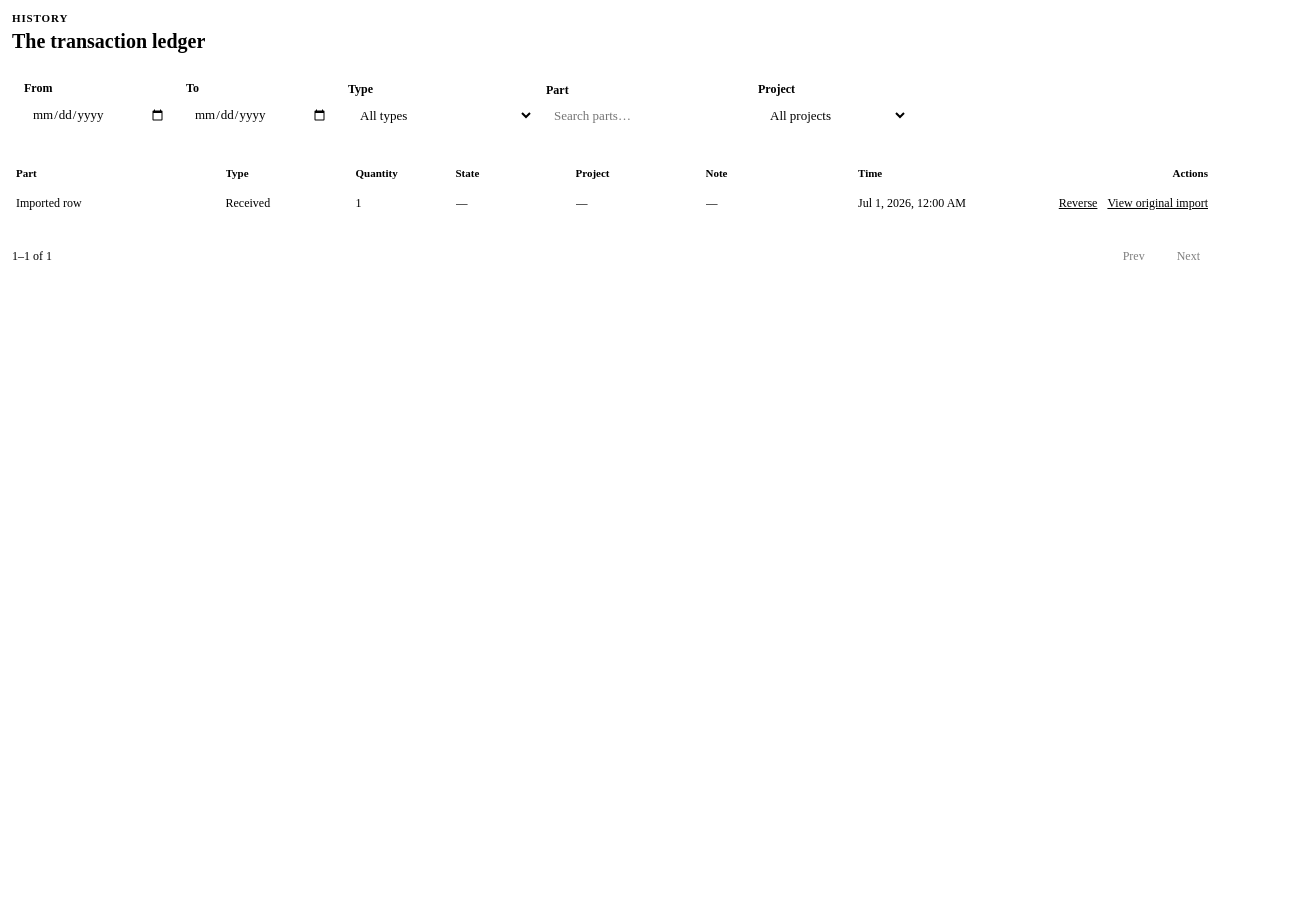
Test: History › the "view original import" stub toasts a Phase 5 message rather than doing nothing
The image size is (1292, 912).
Click the button "View original import". click: (1158, 203)
box: [1107,196,1208,210]
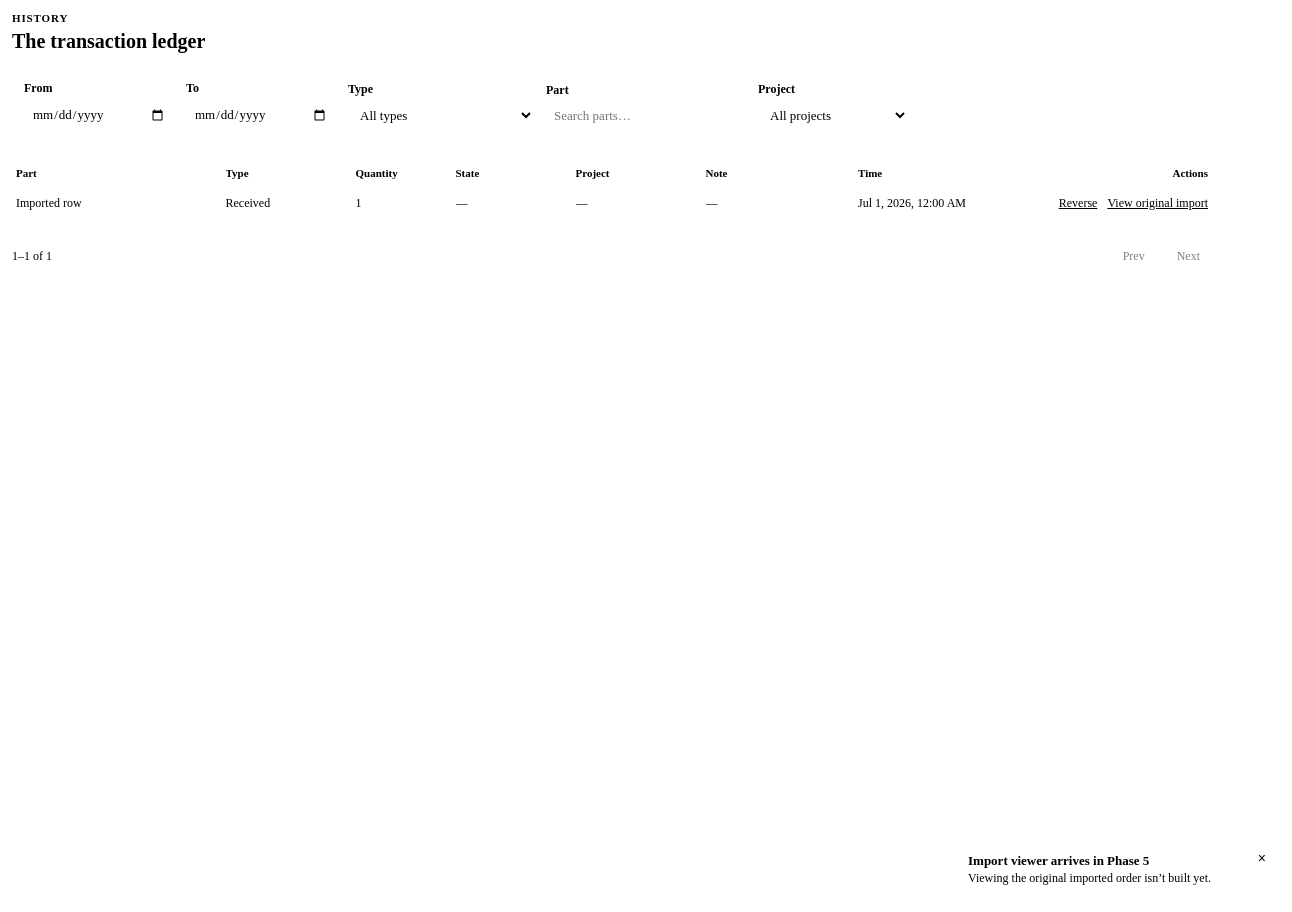
Expected: the text "Import viewer arrives in Phase 5" is shown, [968,853,1149,868]
